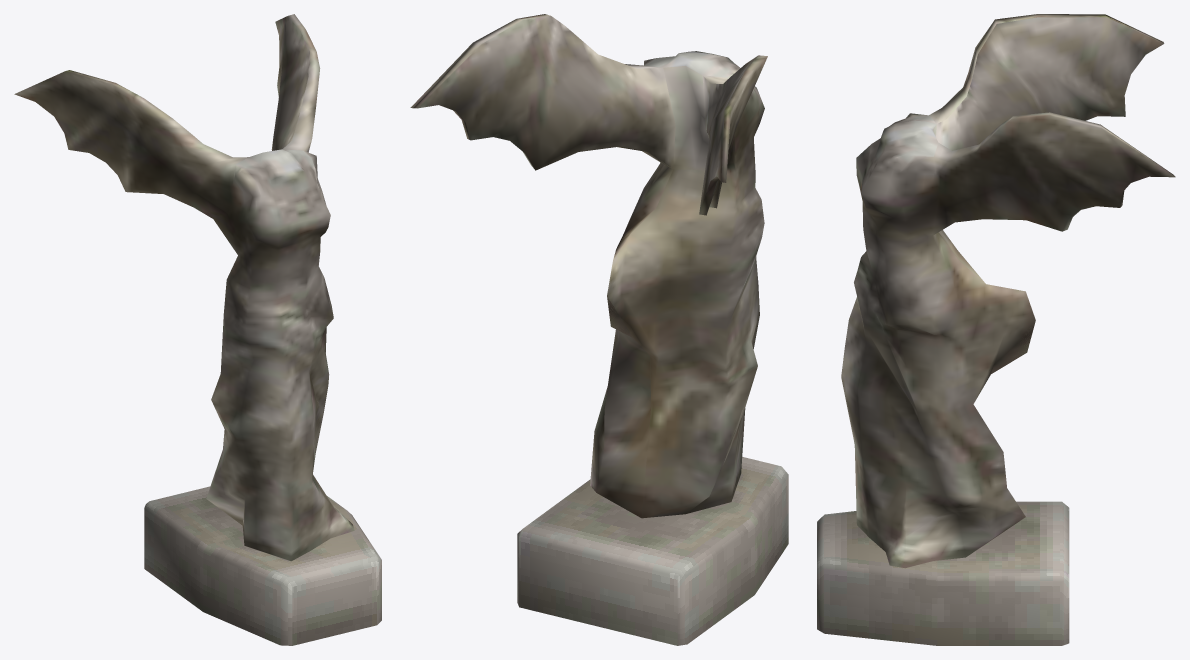
The model's file is int_scu_samothrace_f.dae.
The picture shows the model from 3 angles, left to right: view 1: azimuth 30°, elevation 25°; view 2: azimuth 150°, elevation 25°; view 3: azimuth 270°, elevation 25°; orthographic projection. The views are drawn at different scales.
Visible parts, largest first — view 1: int_scu_samothrace_f; view 2: int_scu_samothrace_f; view 3: int_scu_samothrace_f.
Boxes of the visible parts, box(x1,y1,x2,y2) form: int_scu_samothrace_f: box(14, 14, 381, 645); int_scu_samothrace_f: box(410, 14, 788, 645); int_scu_samothrace_f: box(817, 14, 1175, 645).
Bounding box in the file's own units: 40.57 × 72.4 × 44.08.
2 materials, 2 textured.
